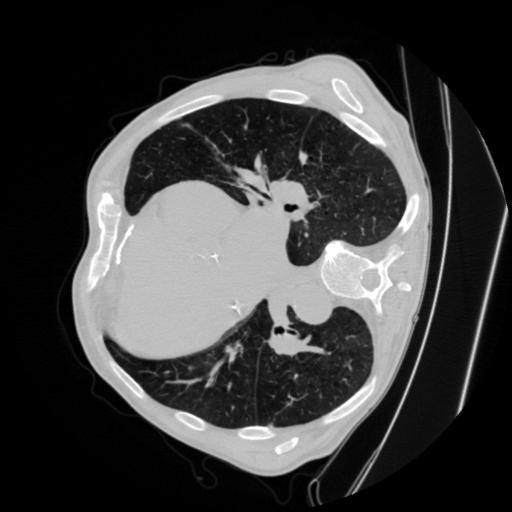nodule: (294, 148, 311, 165)
